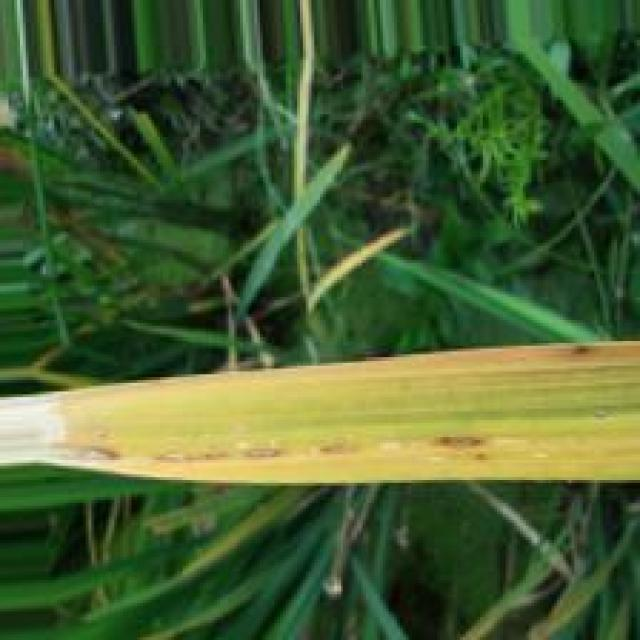Narrow_Brown_Leaf_Spot: (1, 343, 640, 486)
